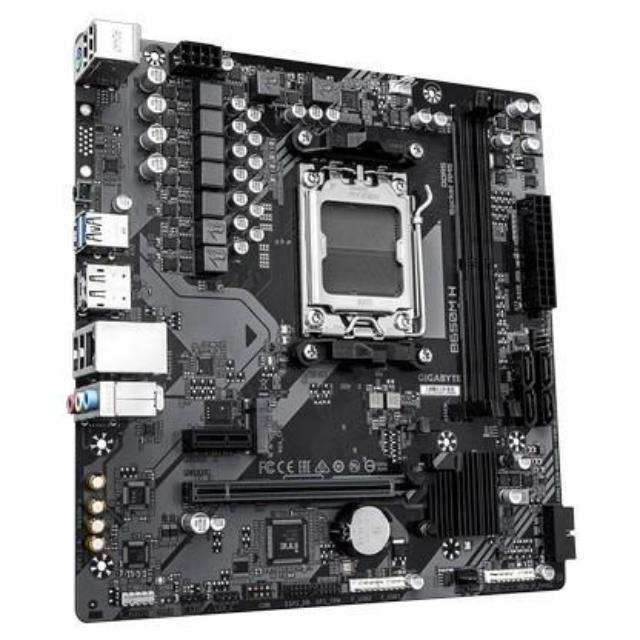Mainboard: (67, 31, 575, 620)
